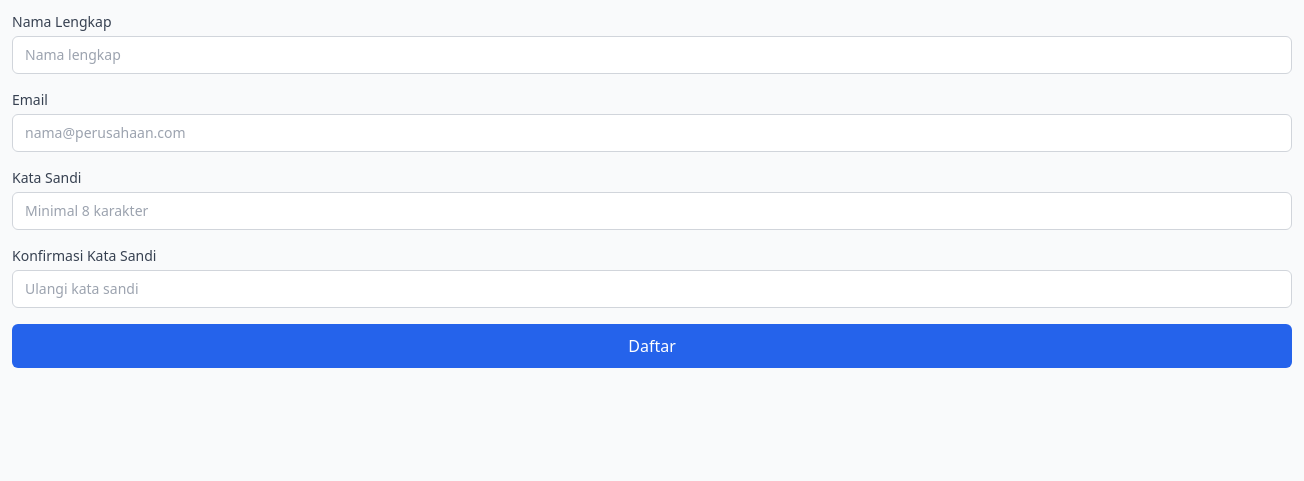
RegisterForm › should validate required fields
Click the button "Daftar" at x=652, y=346, box [12,324,1292,368]
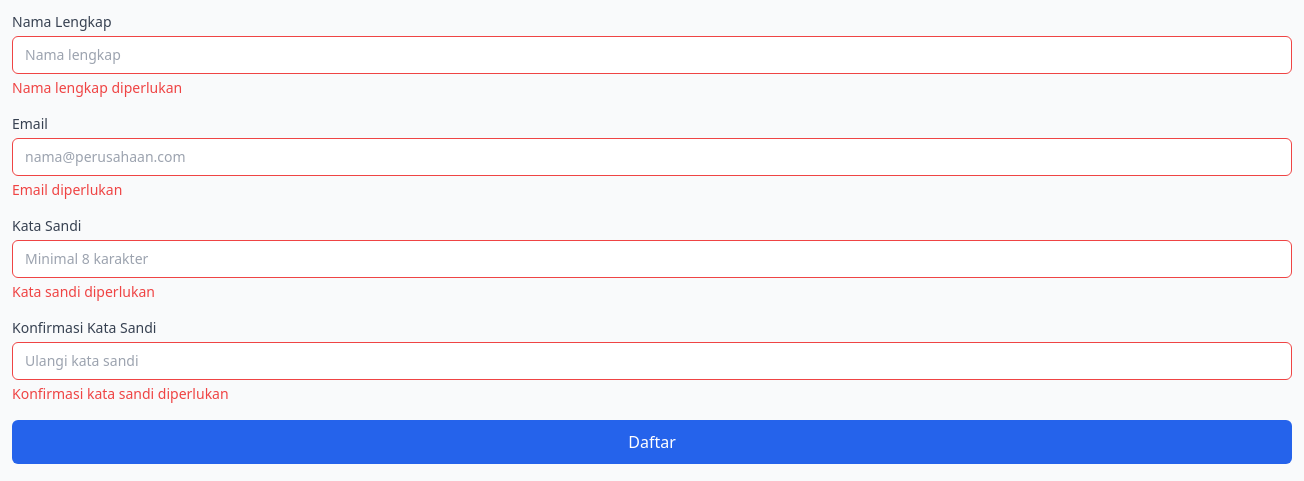
Expected: the text "Nama lengkap diperlukan" is shown, [12,78,182,97]
